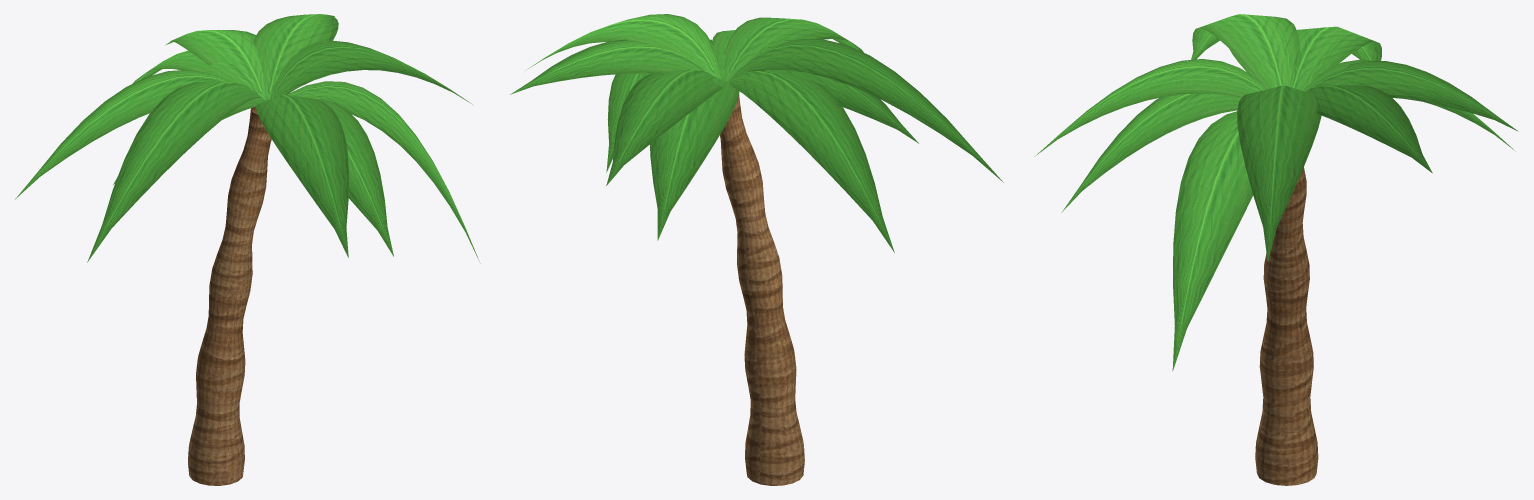
Rendered from palm_tree.obj.
The picture shows the model from 3 angles, left to right: view 1: azimuth 30°, elevation 25°; view 2: azimuth 150°, elevation 25°; view 3: azimuth 270°, elevation 25°; orthographic projection. The views are drawn at different scales.
Parts seen in each view (by area): view 1: PalmTree; view 2: PalmTree; view 3: PalmTree.
Part boxes in pixels (bbox=[...]): PalmTree: bbox=[15, 14, 480, 485]; PalmTree: bbox=[510, 14, 1003, 485]; PalmTree: bbox=[1034, 14, 1518, 485].
Size of the model in its own units: 7.54 by 6.83 by 6.83.
